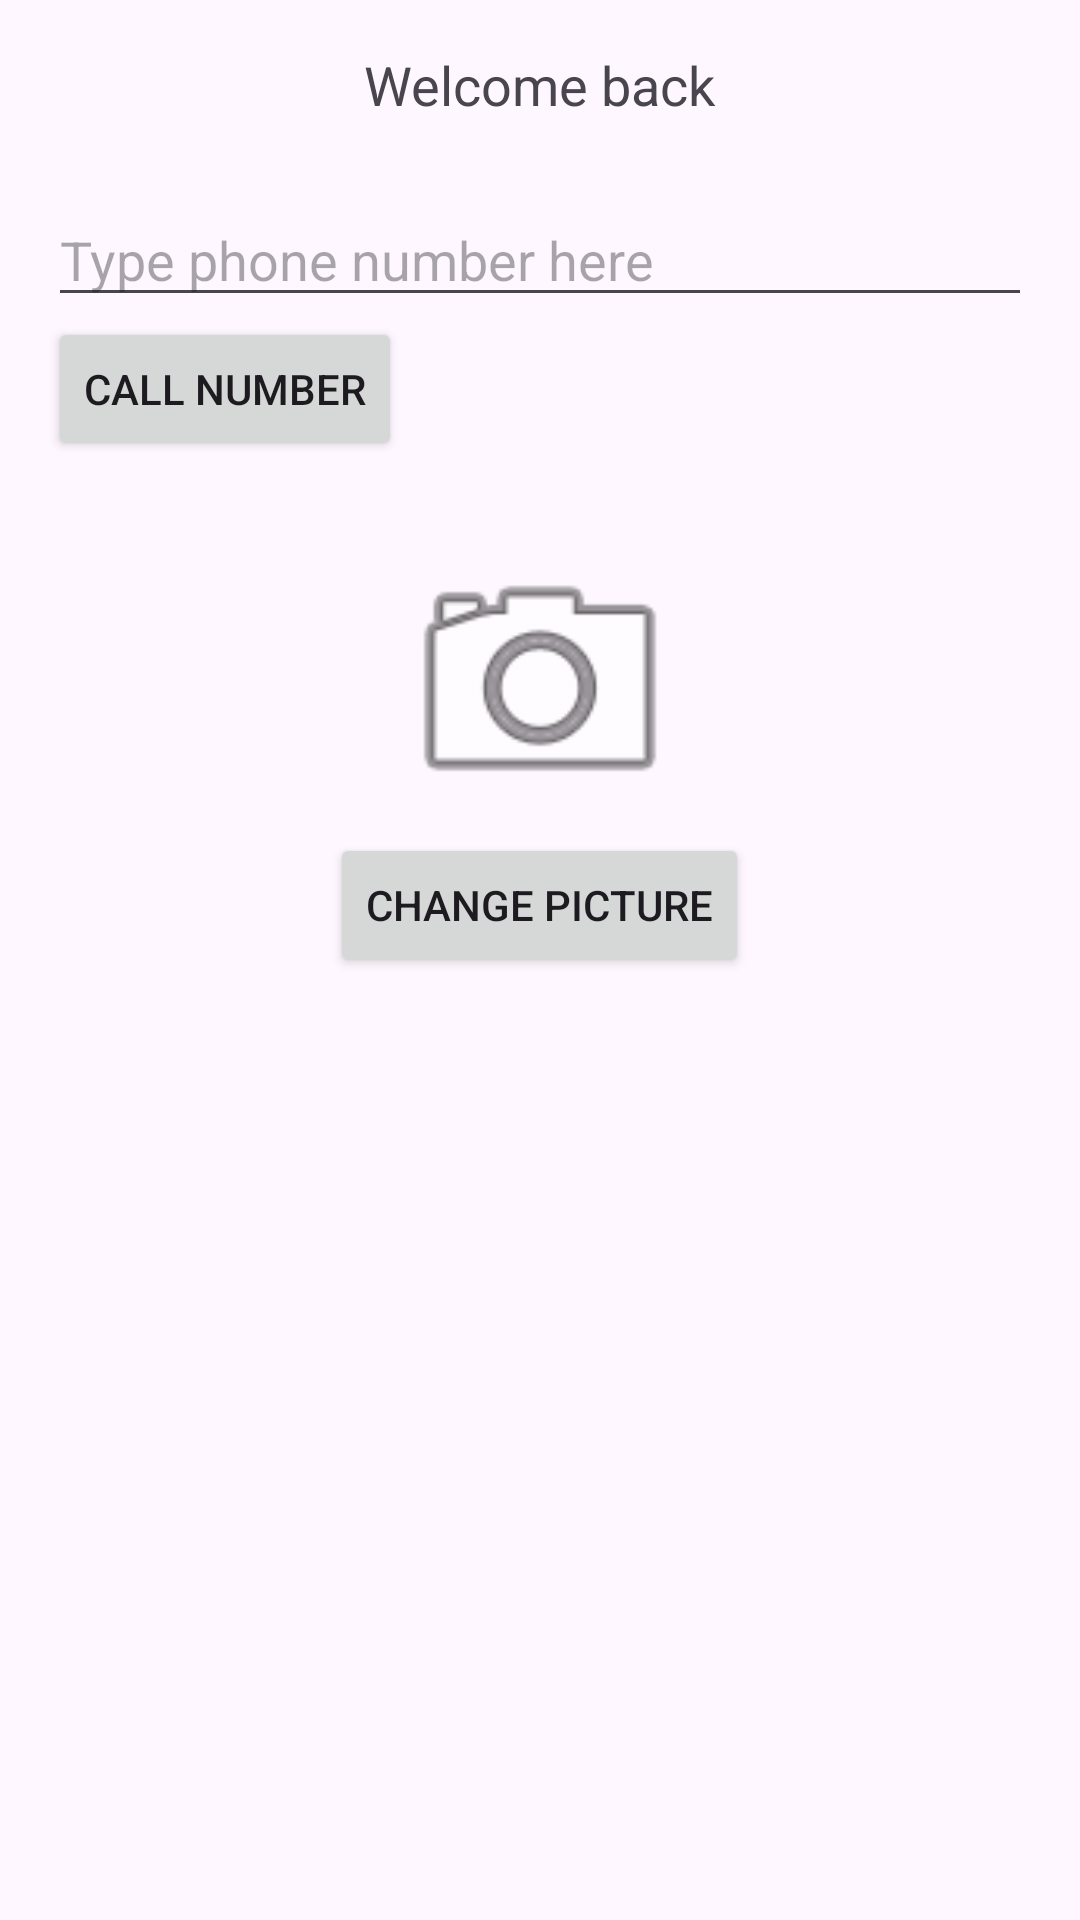

Icons on this 1080×1920 Android screen, each with its box as (x1, y1, x2, y2):
Profile Image: (424, 586, 656, 771)
